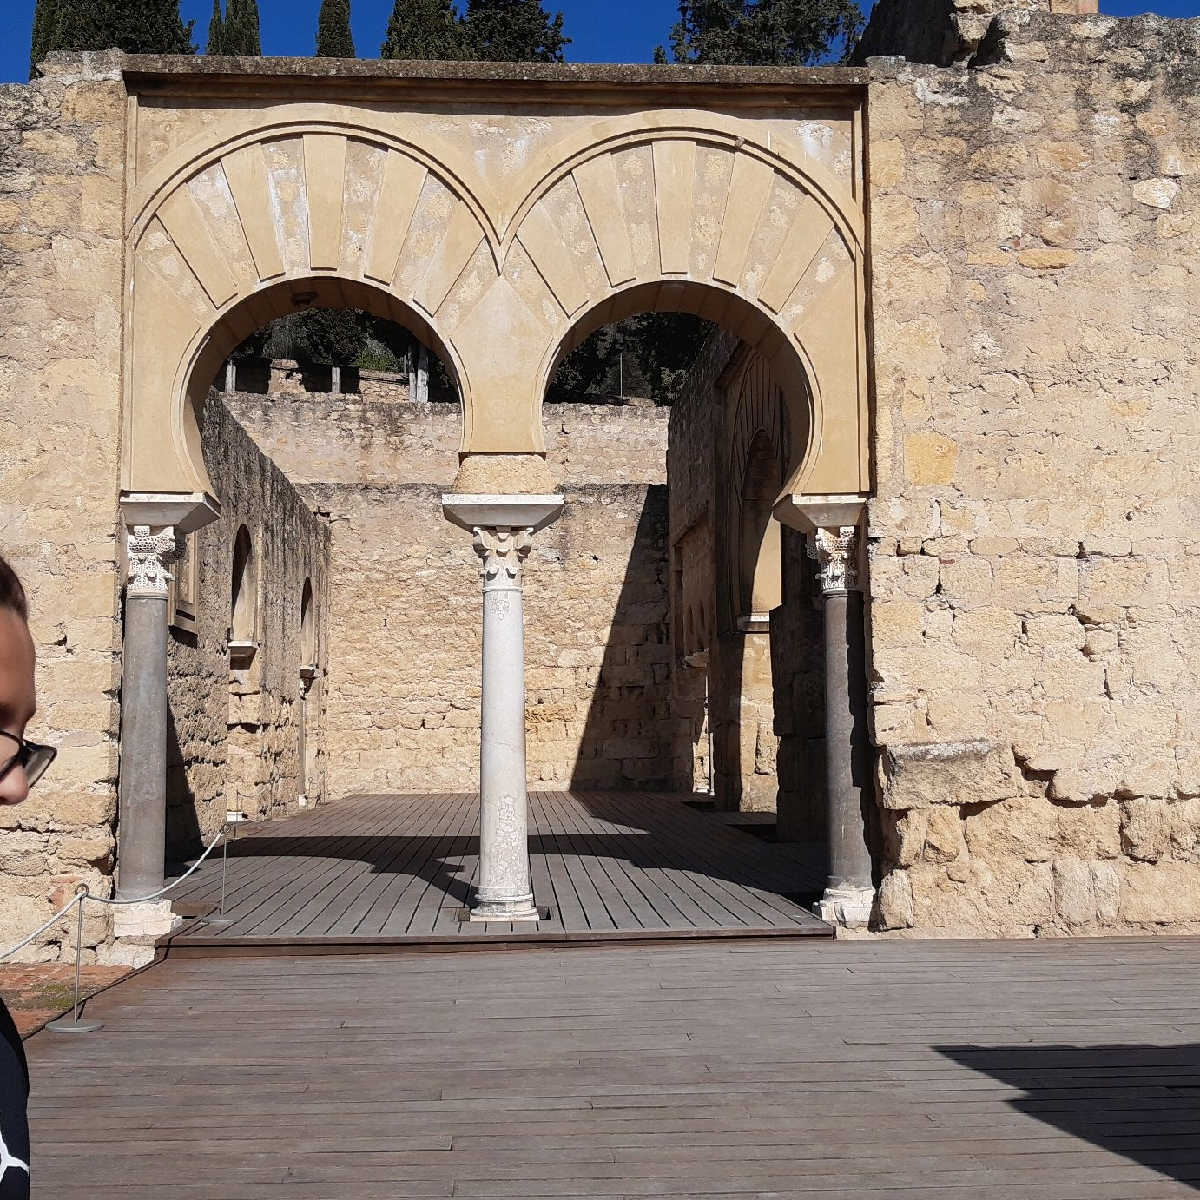arco-herradura: (144, 247, 503, 562), (496, 249, 841, 557)
